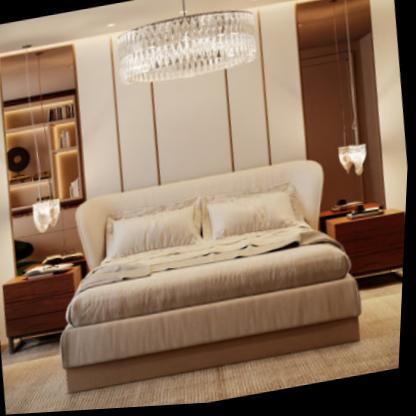Bed: (62, 164, 362, 395)
Nightstand: (5, 272, 84, 352), (323, 213, 407, 285)
Wall Panel: (0, 0, 390, 223)
